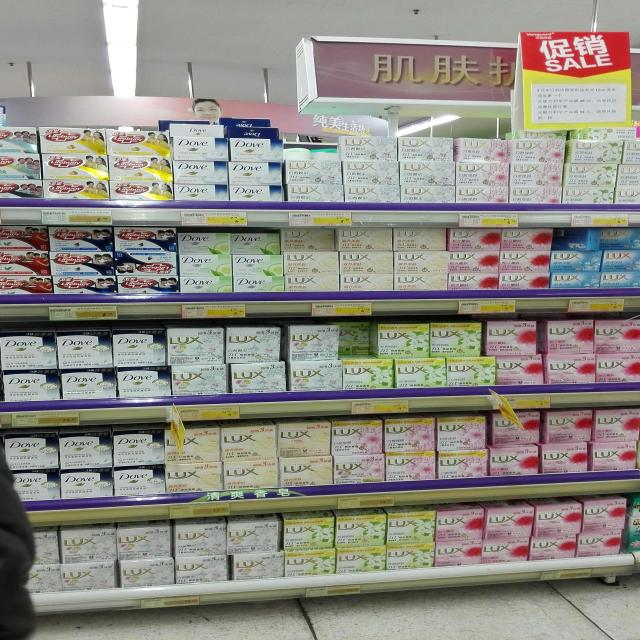unorganised: (375, 322, 482, 358), (178, 230, 283, 254), (486, 320, 536, 357), (554, 228, 605, 252), (281, 229, 339, 250), (338, 322, 373, 355), (604, 228, 638, 247)
